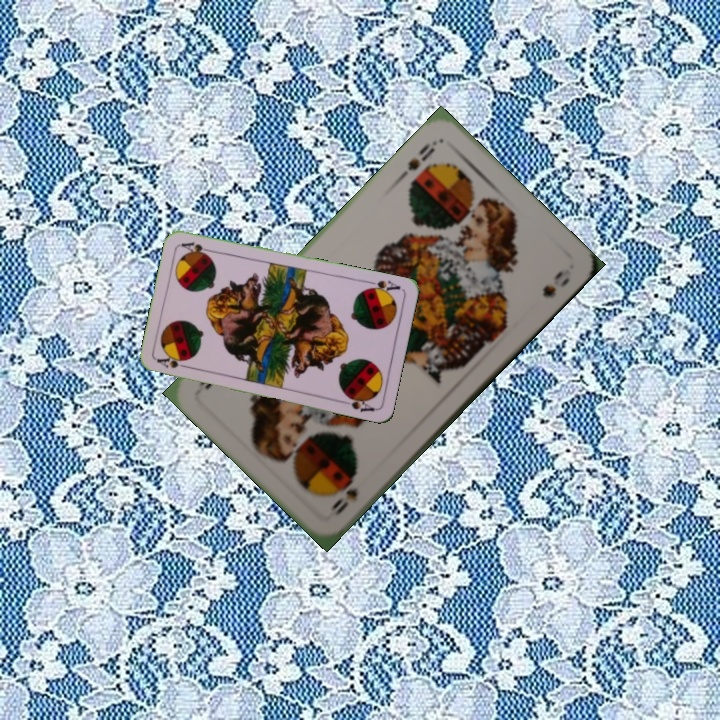SA: (362, 276, 403, 298), (153, 353, 193, 371)
SO: (394, 136, 440, 183), (325, 483, 360, 518)
